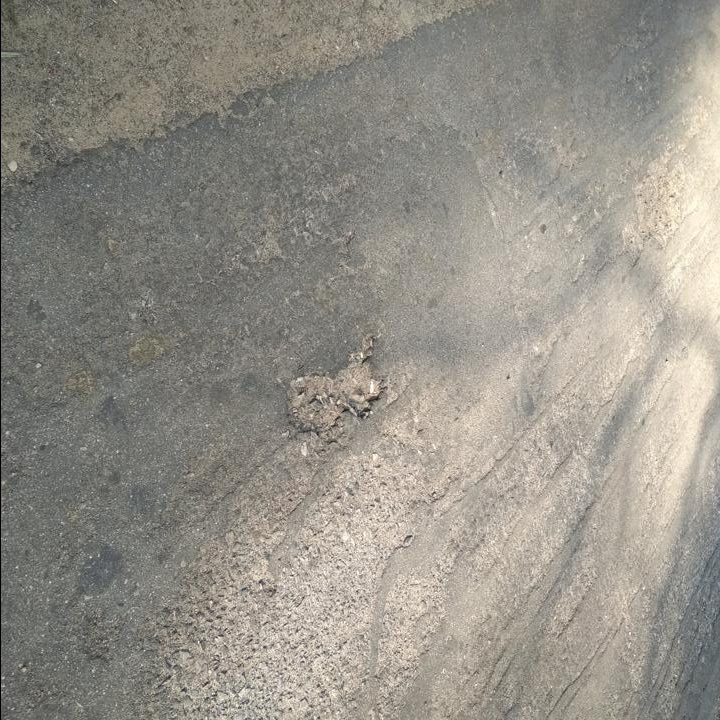pothole: (284, 329, 390, 441), (615, 153, 686, 271)
